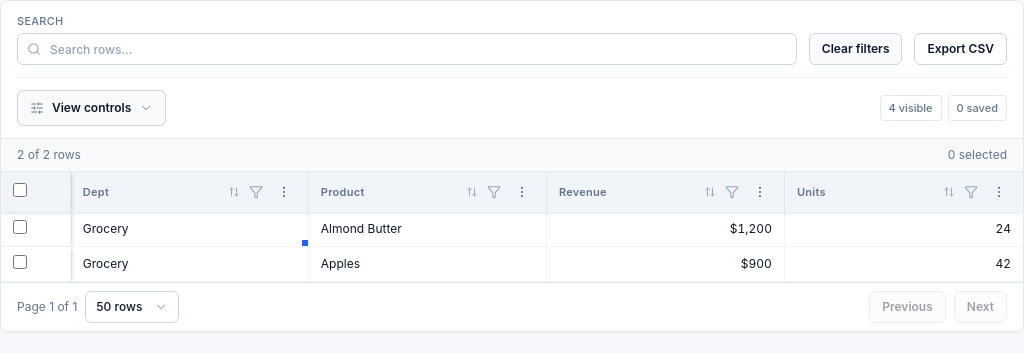
Test: DataGrid global search › clears the search via the clear button
The width and height of the screenshot is (1024, 353).
Type "Apples" into the field with placeholder "Search rows..." at (407, 49), box [17, 33, 797, 65]
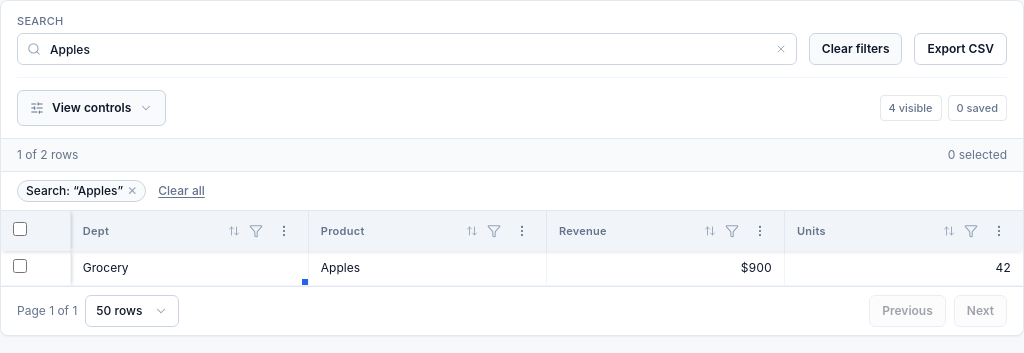
Result: the text "Almond Butter" is gone
Click the button named "clear search" at (781, 49), box [773, 41, 789, 57]
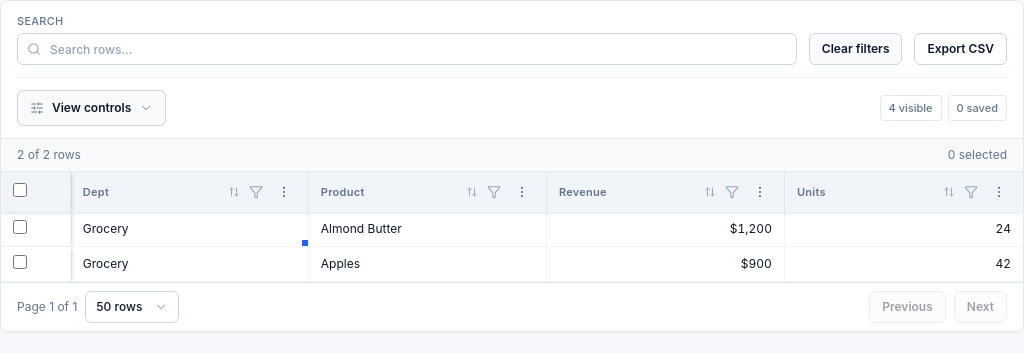
Result: the field with placeholder "Search rows..." is empty at [17, 33, 797, 65]
Result: the text "Almond Butter" is shown at [309, 212, 547, 247]
